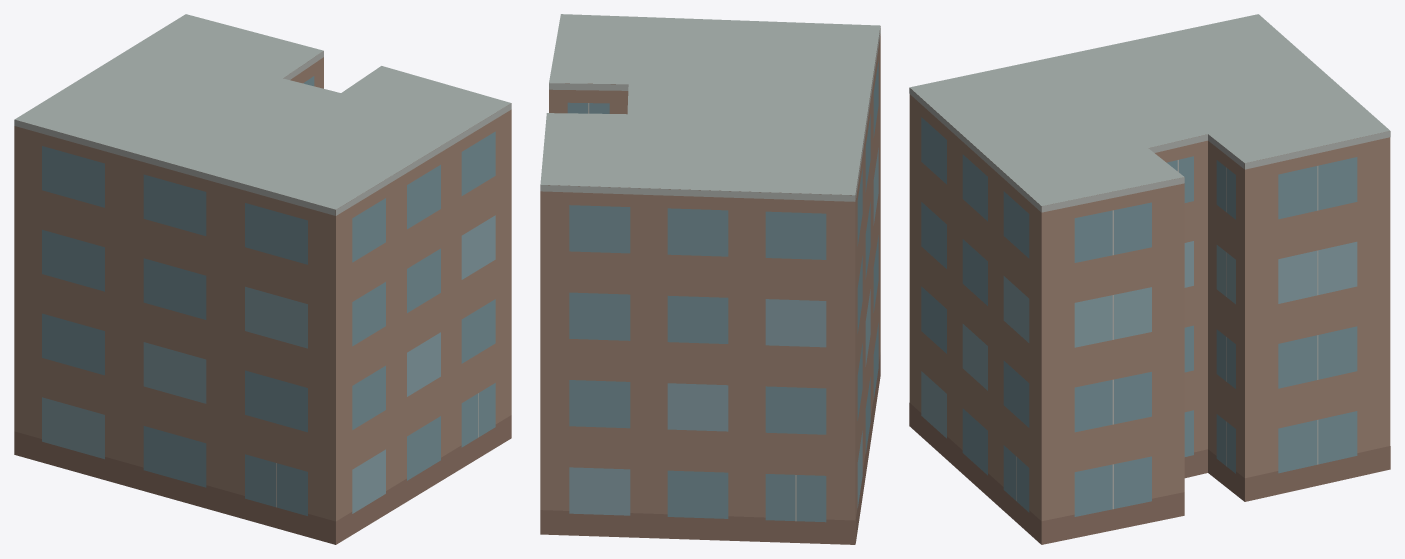
The model's file is survey-upis-32744228.glb.
3 renders of one model, left to right at view 1: azimuth 30°, elevation 25°; view 2: azimuth 150°, elevation 25°; view 3: azimuth 270°, elevation 25°, orthographic. The views are drawn at different scales.
Visible parts, largest first — view 1: survey-upis-32744228.tmp; view 2: survey-upis-32744228.tmp; view 3: survey-upis-32744228.tmp.
Boxes of the visible parts, box(x1,y1,x2,y2) form: survey-upis-32744228.tmp: box(14, 14, 511, 544); survey-upis-32744228.tmp: box(540, 14, 880, 544); survey-upis-32744228.tmp: box(909, 14, 1390, 544).
Size of the model in its own units: 15.71 by 12.9 by 16.61.
